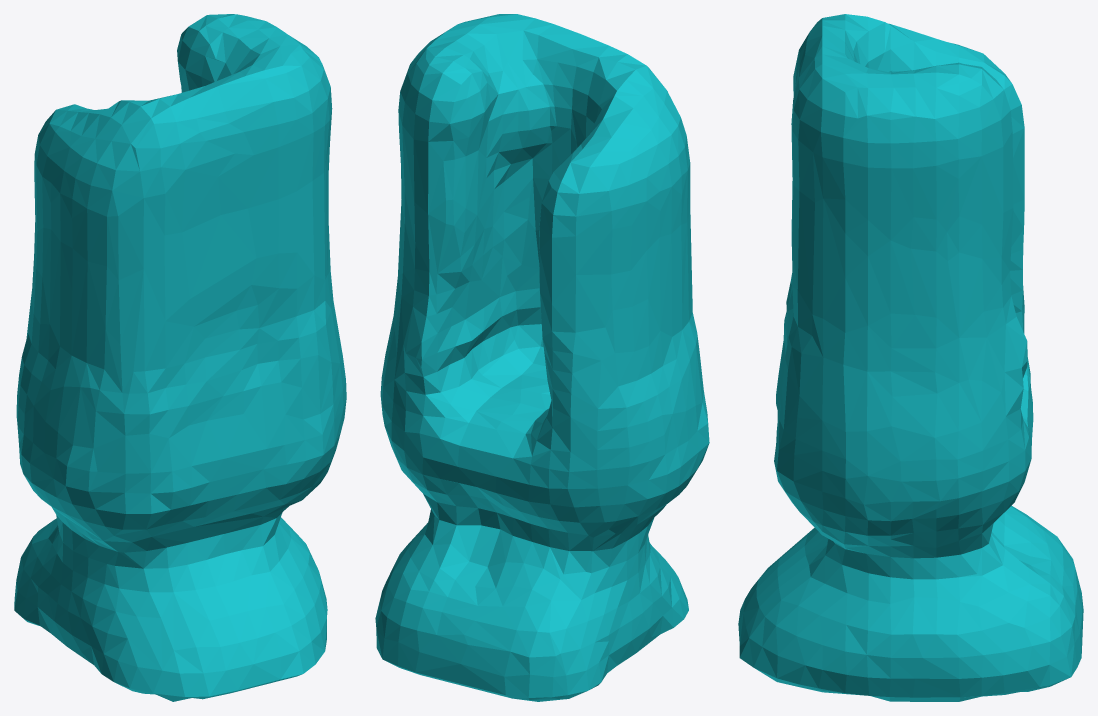
The picture shows the model from 3 angles, left to right: view 1: azimuth 30°, elevation 25°; view 2: azimuth 150°, elevation 25°; view 3: azimuth 270°, elevation 25°; orthographic projection. The views are drawn at different scales.
Visible parts, largest first — view 1: Liquid_Domain; view 2: Liquid_Domain; view 3: Liquid_Domain.
Boxes of the visible parts, x1,y1,x2,y2 form: Liquid_Domain: (14,14,346,701); Liquid_Domain: (375,14,709,701); Liquid_Domain: (738,14,1083,701).
Bounding box in the file's own units: 37.13 × 72.71 × 36.47.
